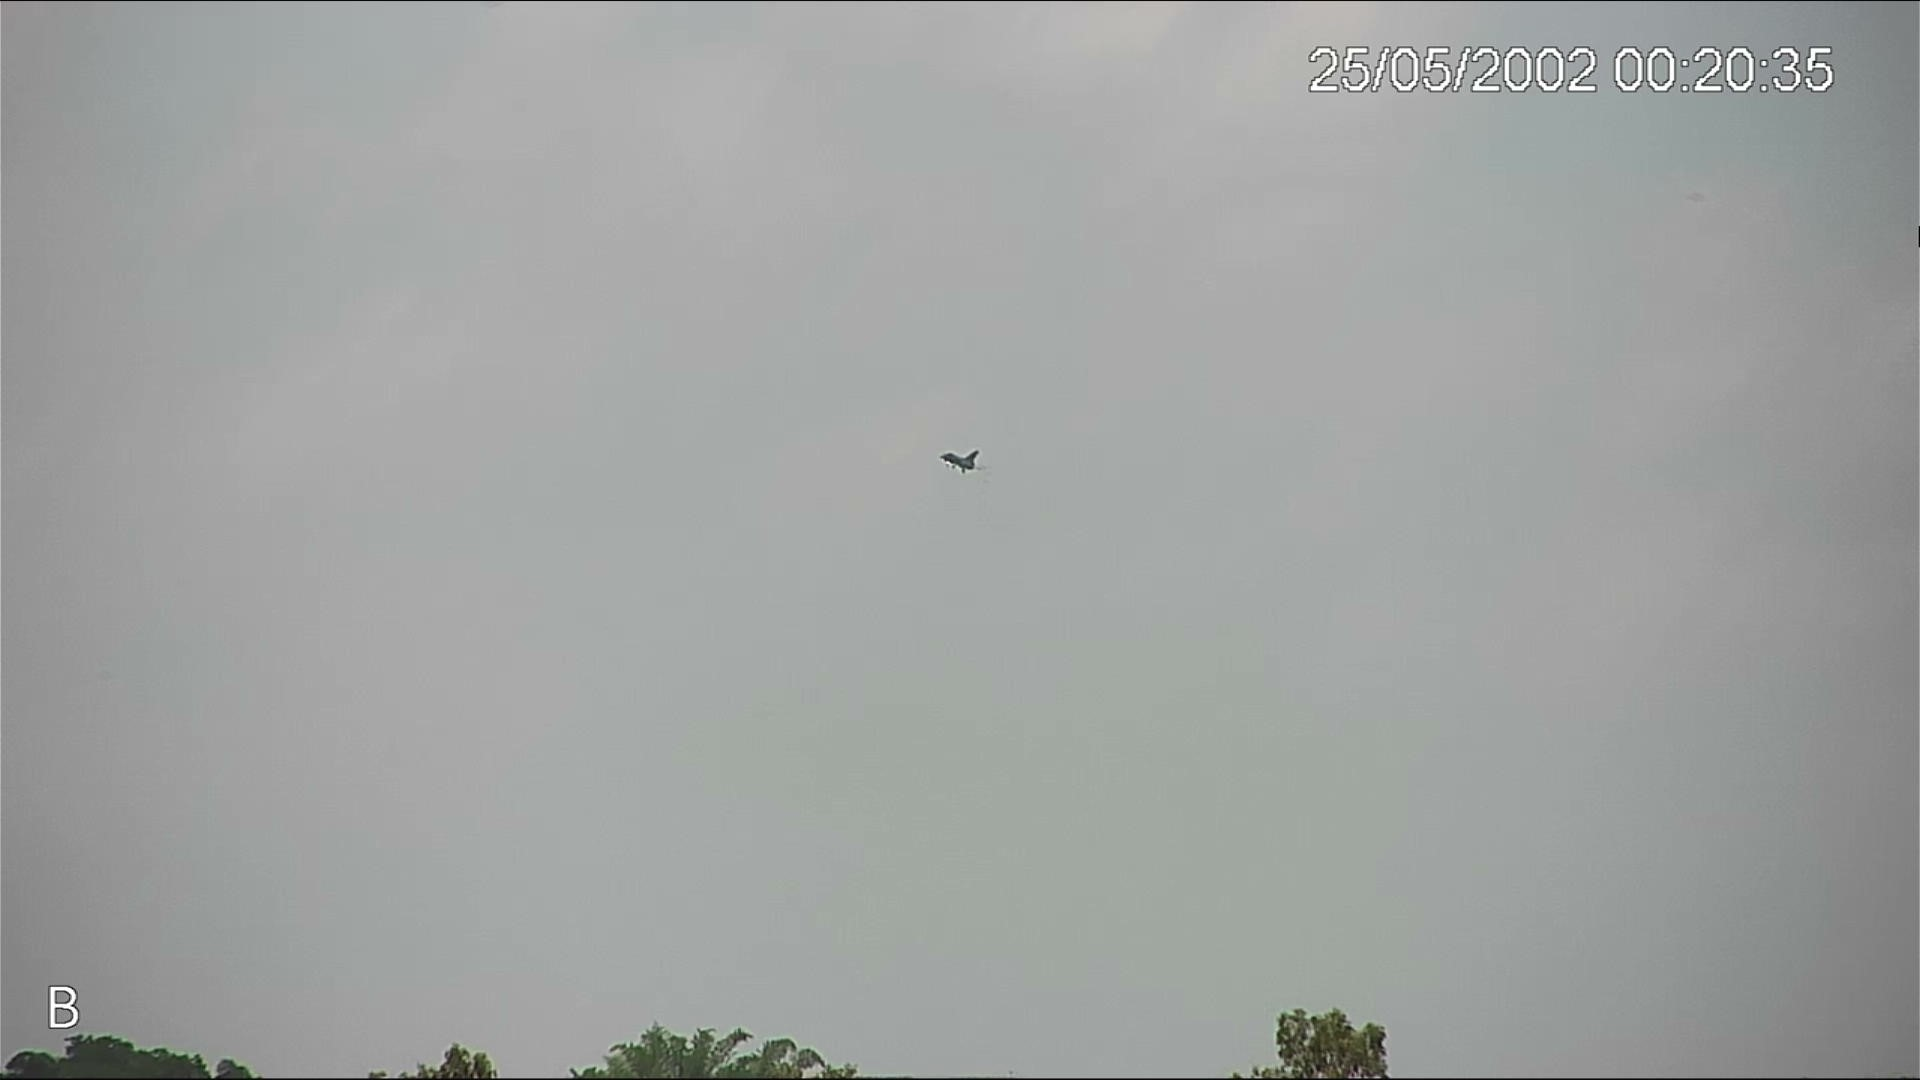SU_30: (942, 447, 984, 473)
